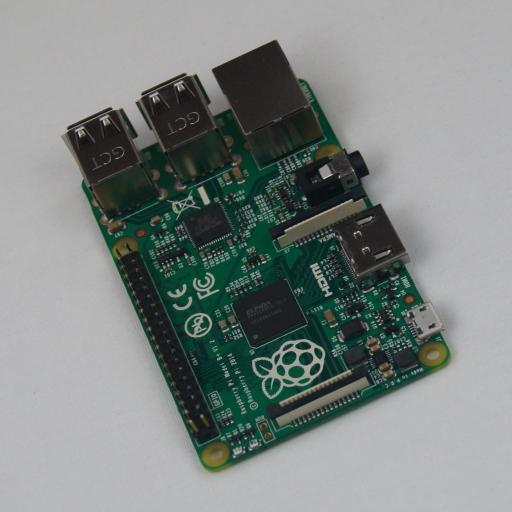Raspberry Pi 1 B-: (65, 40, 450, 472)
